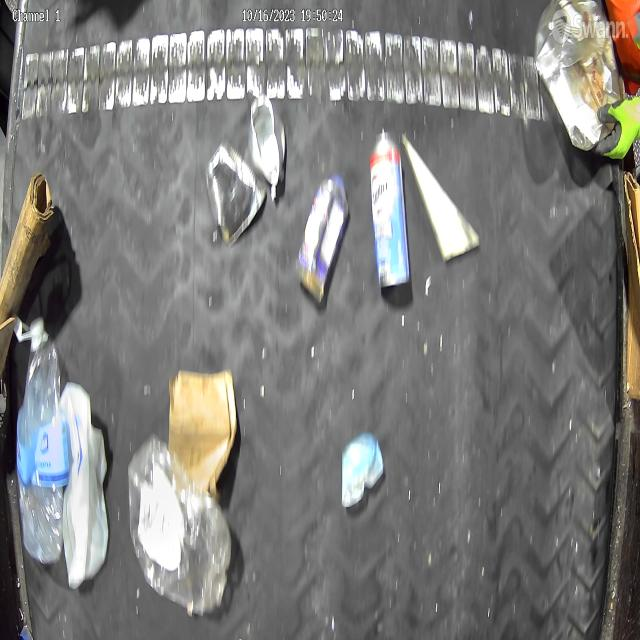can: (368, 124, 412, 294), (203, 142, 269, 246), (247, 95, 290, 198)
milk_jug: (61, 382, 109, 590)
plastic_bottle: (128, 434, 234, 614), (13, 311, 68, 565)
